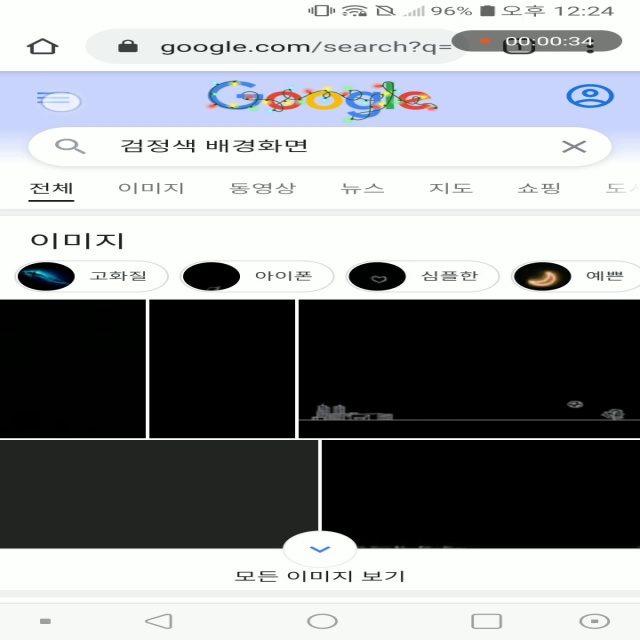Cursor: (41, 92, 86, 114)
